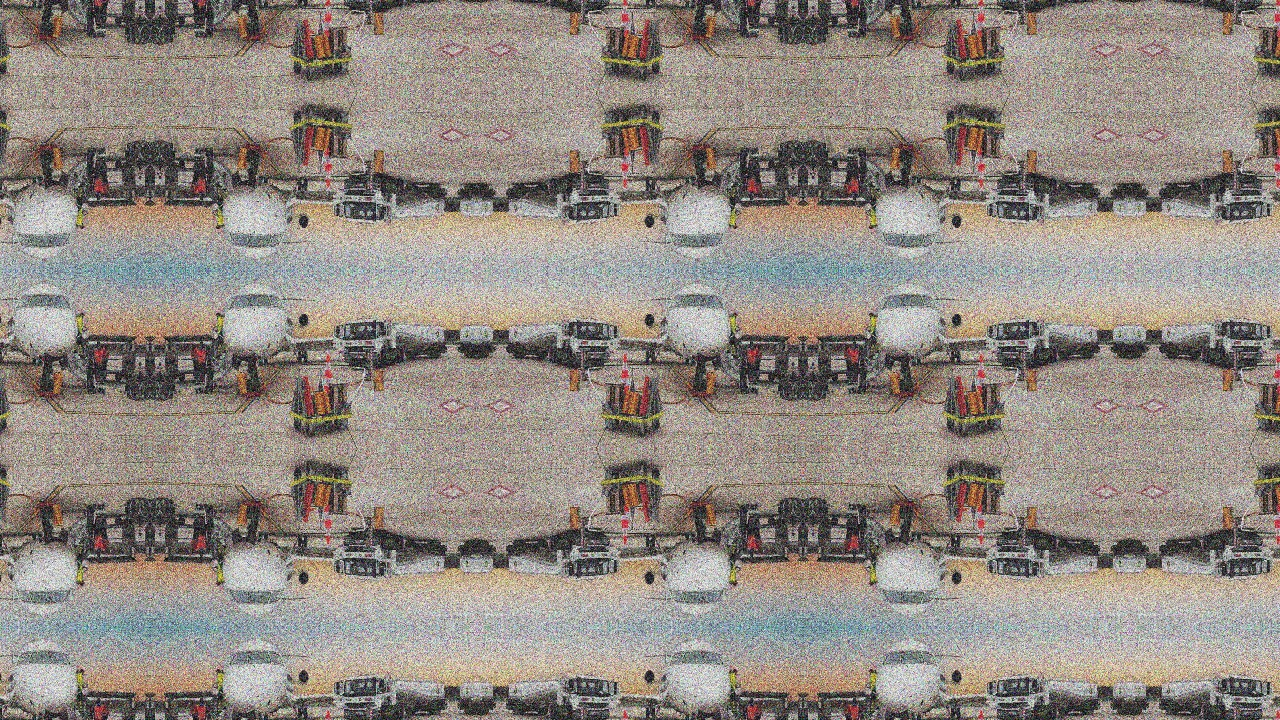chock: (300, 19, 314, 60), (639, 19, 653, 60), (954, 19, 968, 60), (300, 125, 314, 166), (639, 125, 653, 166), (954, 125, 968, 166), (300, 376, 314, 417), (639, 376, 653, 417), (954, 376, 968, 417), (300, 482, 314, 523), (639, 482, 653, 523), (954, 482, 968, 523), (321, 33, 332, 58), (621, 33, 632, 58), (321, 127, 332, 152), (314, 126, 325, 151), (621, 127, 632, 152), (628, 126, 639, 151), (321, 390, 332, 415), (621, 390, 632, 415), (321, 484, 332, 509), (314, 483, 325, 508), (621, 484, 632, 509), (628, 483, 639, 508), (314, 34, 325, 58), (628, 34, 639, 58), (314, 391, 325, 415), (628, 391, 639, 415), (975, 33, 985, 58), (975, 127, 985, 152), (968, 126, 978, 151), (975, 390, 985, 415), (975, 484, 985, 509), (968, 483, 978, 508), (968, 34, 978, 58), (373, 150, 383, 174), (570, 150, 580, 174), (1027, 150, 1037, 174), (1223, 150, 1233, 174), (968, 391, 978, 415), (373, 507, 383, 531), (570, 507, 580, 531), (1027, 507, 1037, 531), (1223, 507, 1233, 531), (53, 15, 63, 38), (237, 15, 247, 38), (373, 11, 383, 34), (706, 15, 716, 38), (570, 11, 580, 34), (890, 15, 900, 38), (1027, 11, 1037, 34), (1223, 11, 1233, 34), (53, 147, 63, 170), (237, 147, 247, 170), (706, 147, 716, 170), (890, 147, 900, 170), (53, 372, 63, 395), (237, 372, 247, 395), (373, 368, 383, 391), (706, 372, 716, 395), (570, 368, 580, 391), (890, 372, 900, 395), (1027, 368, 1037, 391), (1223, 368, 1233, 391), (53, 504, 63, 527), (237, 504, 247, 527), (706, 504, 716, 527), (890, 504, 900, 527), (1275, 33, 1280, 58), (1275, 127, 1280, 152), (1275, 390, 1280, 415), (1275, 484, 1280, 509)
wheel: (1028, 173, 1040, 191), (1220, 173, 1232, 191), (1028, 351, 1040, 369), (1220, 351, 1232, 369), (1028, 530, 1040, 548), (1220, 530, 1232, 548), (375, 173, 386, 191), (567, 173, 578, 191), (375, 351, 386, 369), (567, 351, 578, 369), (375, 530, 386, 548), (567, 530, 578, 548), (464, 183, 476, 198), (477, 183, 489, 198), (1082, 183, 1094, 198), (1166, 183, 1178, 198), (464, 344, 476, 359), (477, 344, 489, 359), (1082, 344, 1094, 359), (1166, 344, 1178, 359), (464, 540, 476, 555), (477, 540, 489, 555), (1082, 540, 1094, 555), (1166, 540, 1178, 555), (464, 701, 476, 716), (477, 701, 489, 716), (1082, 701, 1094, 716), (1166, 701, 1178, 716), (429, 183, 440, 198), (513, 183, 524, 198), (1118, 183, 1129, 198), (1131, 183, 1142, 198), (429, 344, 440, 359), (513, 344, 524, 359), (1118, 344, 1129, 359), (1131, 344, 1142, 359), (429, 540, 440, 555), (513, 540, 524, 555), (1118, 540, 1129, 555), (1131, 540, 1142, 555), (429, 701, 440, 716), (513, 701, 524, 716), (1118, 701, 1129, 716), (1131, 701, 1142, 716), (1028, 0, 1040, 12), (1220, 0, 1232, 12), (1028, 708, 1040, 720), (1220, 708, 1232, 720), (375, 0, 386, 12), (567, 0, 578, 12), (375, 708, 386, 720), (567, 708, 578, 720), (404, 183, 417, 193), (536, 183, 549, 193), (404, 540, 417, 550), (536, 540, 549, 550), (395, 347, 403, 363), (550, 347, 558, 363), (395, 704, 403, 720), (550, 704, 558, 720), (395, 179, 403, 194), (550, 179, 558, 194), (1058, 183, 1070, 193), (1190, 183, 1202, 193), (395, 536, 403, 551), (550, 536, 558, 551), (1058, 540, 1070, 550), (1190, 540, 1202, 550), (404, 349, 417, 358), (536, 349, 549, 358), (404, 706, 417, 715), (536, 706, 549, 715), (47, 149, 55, 163), (898, 149, 906, 163), (1049, 347, 1056, 363), (1204, 347, 1211, 363), (47, 506, 55, 520), (898, 506, 906, 520), (1049, 704, 1056, 720), (1204, 704, 1211, 720), (1058, 349, 1070, 358), (1190, 349, 1202, 358), (1058, 706, 1070, 715), (1190, 706, 1202, 715), (1049, 179, 1056, 194), (1204, 179, 1211, 194), (1049, 536, 1056, 551), (1204, 536, 1211, 551), (47, 22, 55, 35), (898, 22, 906, 35), (47, 379, 55, 392), (898, 379, 906, 392), (253, 21, 260, 35), (693, 21, 700, 35), (245, 149, 252, 163), (701, 149, 708, 163), (253, 378, 260, 392), (693, 378, 700, 392), (245, 506, 252, 520), (701, 506, 708, 520), (245, 22, 252, 35), (701, 22, 708, 35), (253, 150, 260, 163), (693, 150, 700, 163), (245, 379, 252, 392), (701, 379, 708, 392), (253, 507, 260, 520), (693, 507, 700, 520), (40, 21, 46, 35), (349, 5, 361, 12), (592, 5, 604, 12), (907, 21, 913, 35), (1002, 5, 1014, 12), (1246, 5, 1258, 12), (349, 172, 361, 179), (592, 172, 604, 179), (1002, 172, 1014, 179), (1246, 172, 1258, 179), (40, 378, 46, 392), (349, 362, 361, 369), (592, 362, 604, 369), (907, 378, 913, 392), (1002, 362, 1014, 369), (1246, 362, 1258, 369), (349, 529, 361, 536), (592, 529, 604, 536), (1002, 529, 1014, 536), (1246, 529, 1258, 536), (40, 150, 46, 163), (907, 150, 913, 163), (40, 507, 46, 520), (907, 507, 913, 520), (114, 160, 122, 168), (831, 160, 839, 168), (114, 517, 122, 525), (831, 517, 839, 525), (114, 17, 122, 24), (831, 17, 839, 24), (178, 160, 185, 168), (768, 160, 775, 168), (114, 374, 122, 381), (831, 374, 839, 381), (178, 517, 185, 525), (768, 517, 775, 525), (178, 17, 185, 24), (768, 17, 775, 24), (178, 374, 185, 381), (768, 374, 775, 381), (395, 0, 403, 6), (550, 0, 558, 6), (1049, 0, 1056, 6), (1204, 0, 1211, 6), (464, 0, 476, 2), (477, 0, 489, 2), (1082, 0, 1094, 2), (1166, 0, 1178, 2), (429, 0, 440, 2), (513, 0, 524, 2), (1118, 0, 1129, 2), (1131, 0, 1142, 2), (404, 0, 417, 1), (536, 0, 549, 1), (1058, 0, 1070, 1), (1190, 0, 1202, 1), (349, 719, 361, 720), (592, 719, 604, 720), (1002, 719, 1014, 720), (1246, 719, 1258, 720)
